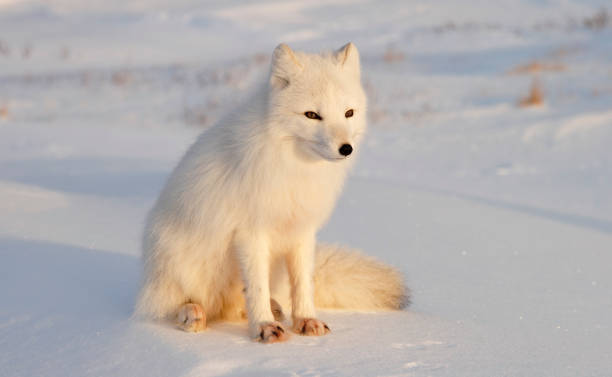arcticfox: (289, 66, 361, 178)
